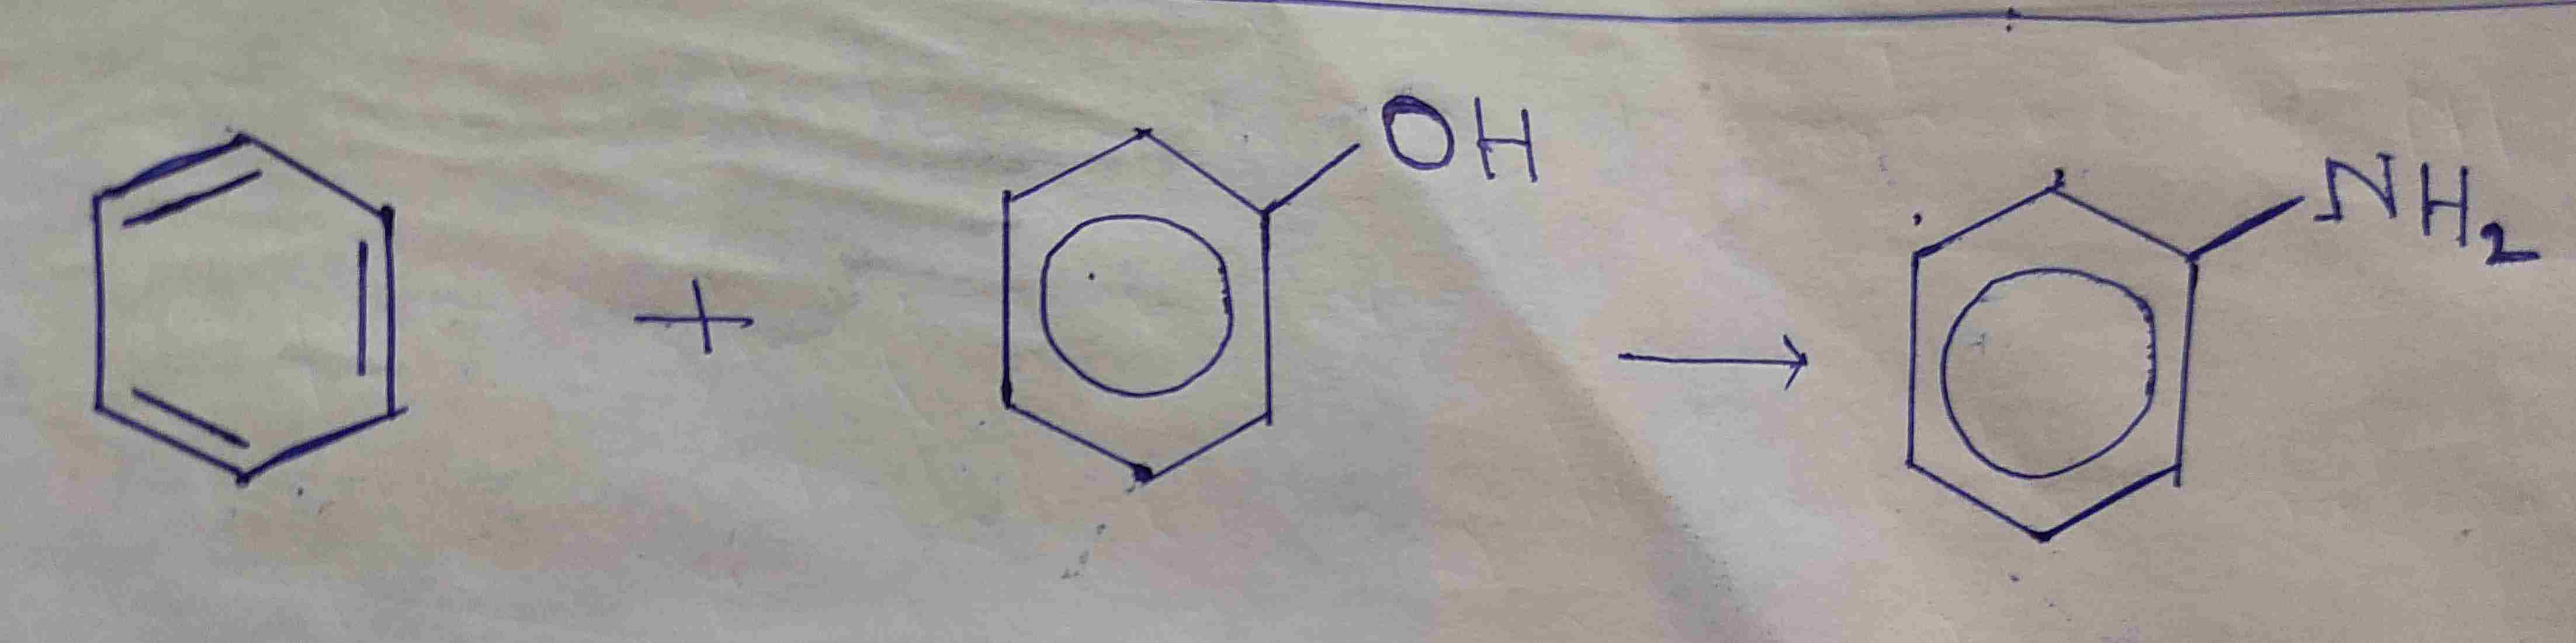Aniline(C6H5NH2): (1893, 138, 2551, 553)
Benzene(C6H6): (69, 120, 417, 499)
Phenol(C6H6O): (984, 61, 1548, 495)
